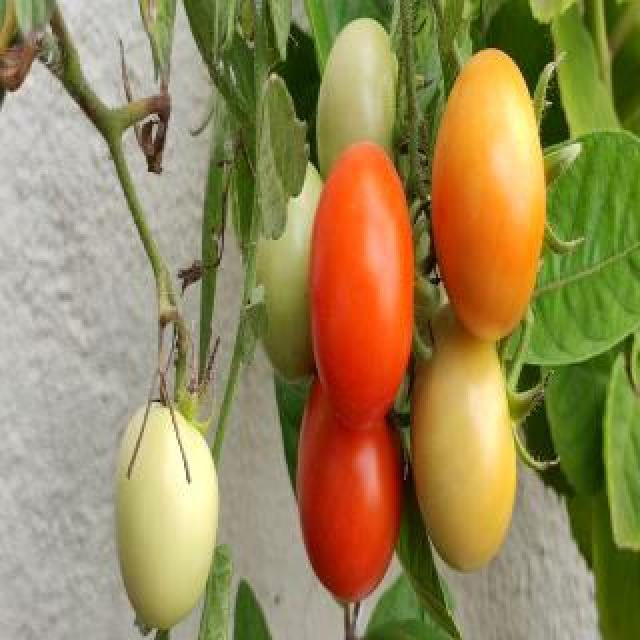Fresh_Tomato: (430, 40, 550, 348), (308, 132, 418, 438), (410, 300, 522, 580), (294, 356, 408, 610)
